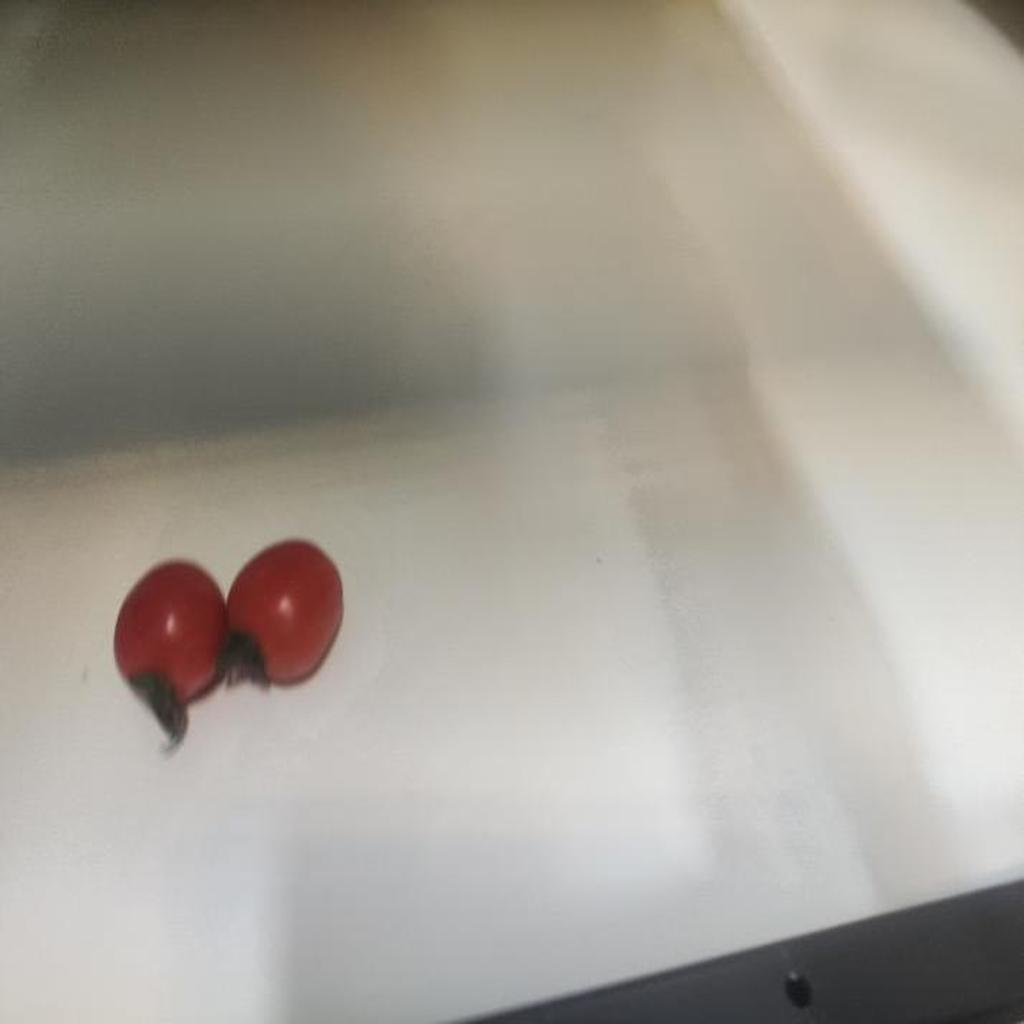tomato: (97, 555, 232, 715), (227, 529, 353, 687)
